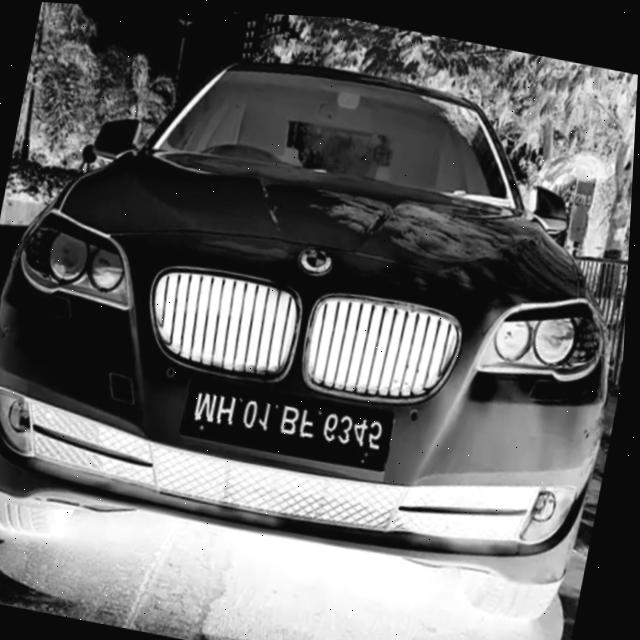Non_registered: (183, 377, 401, 468)
